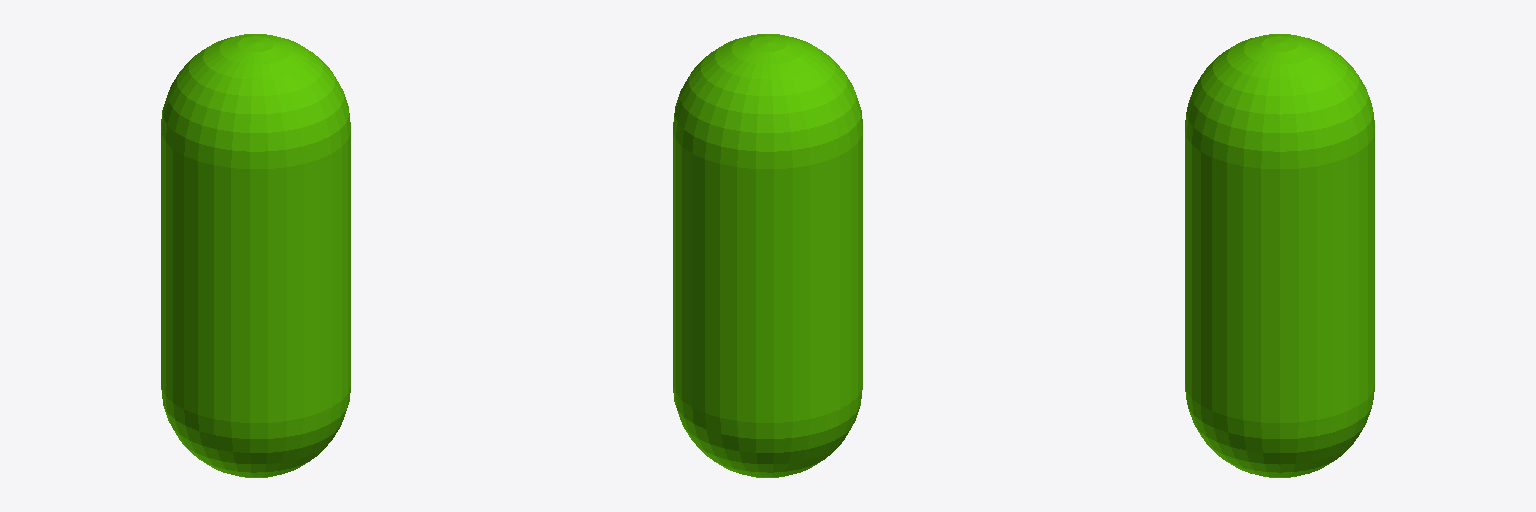
Rendered from player.obj.
The picture shows the model from 3 angles: view 1: azimuth 30°, elevation 25°; view 2: azimuth 150°, elevation 25°; view 3: azimuth 270°, elevation 25°; orthographic projection.
Parts seen in each view (by area): view 1: Sphere; view 2: Sphere; view 3: Sphere.
Boxes of the visible parts, box(x1,y1,x2,y2) form: Sphere: box(161, 34, 350, 477); Sphere: box(673, 34, 862, 477); Sphere: box(1185, 34, 1374, 477).
Size of the model in its own units: 2 by 4.93 by 2.